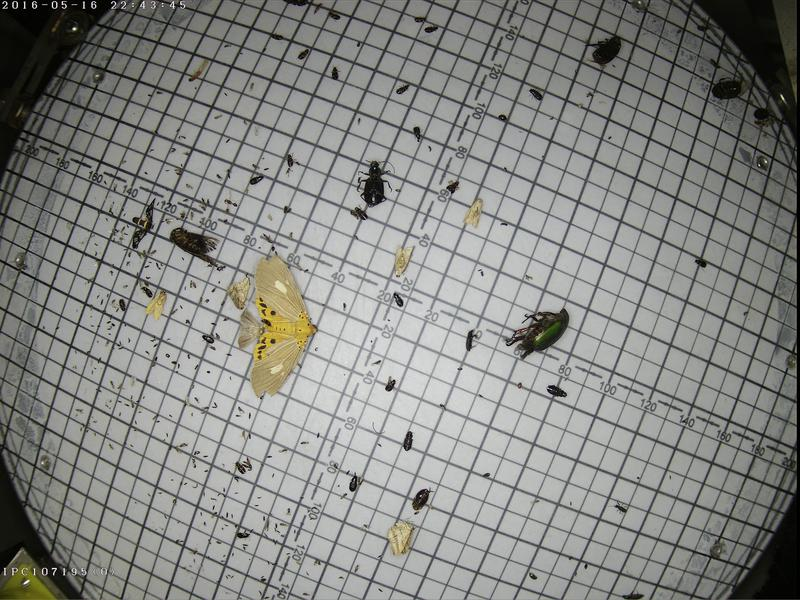Rice planthopper: (126, 372, 136, 385), (183, 393, 192, 406)
Stem borer: (234, 308, 262, 346)
holotrichia oblita: (587, 30, 620, 64), (711, 73, 746, 99)
